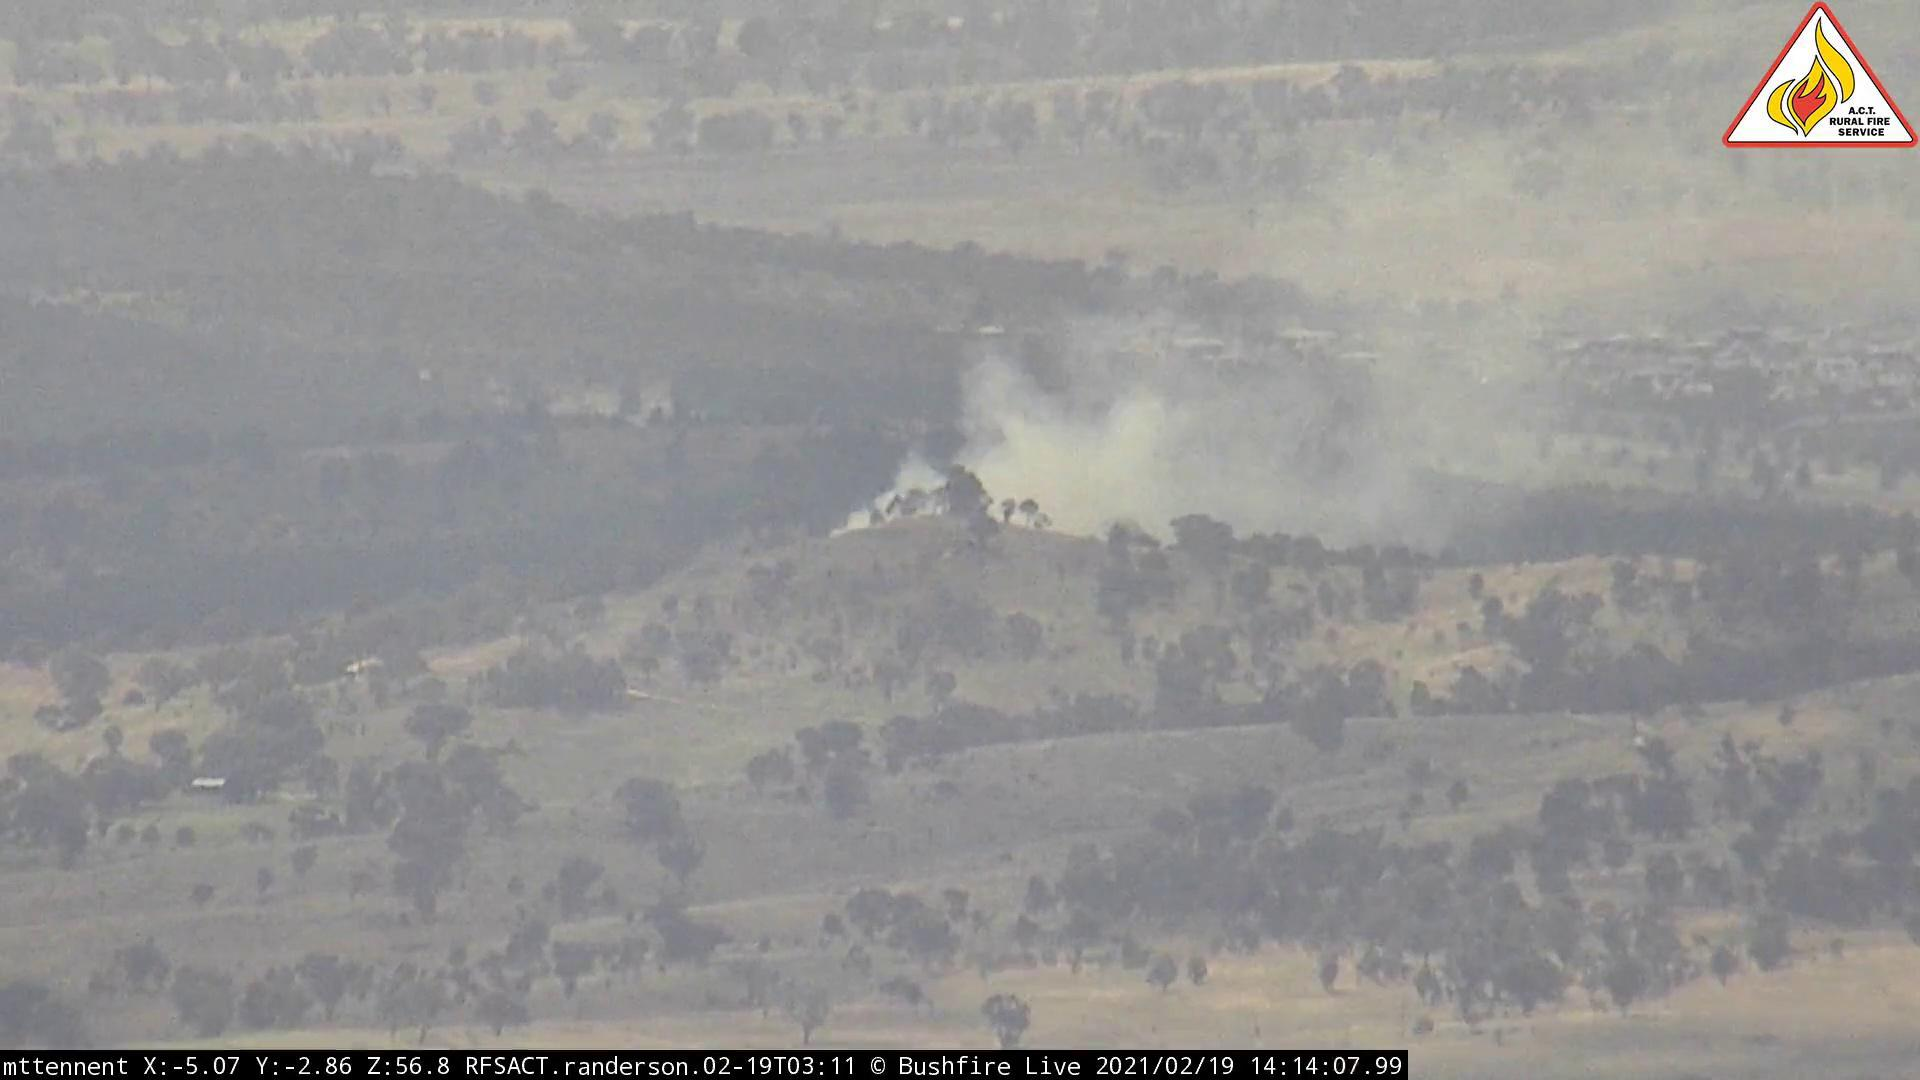Smoke: (822, 244, 1594, 566)
